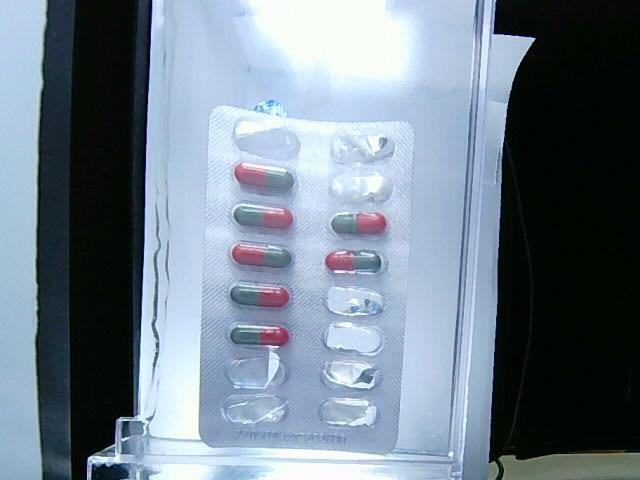Light Front: (200, 101, 413, 452)
No Pill Front: (233, 118, 300, 161), (225, 349, 286, 389), (324, 321, 384, 356), (221, 394, 288, 424), (331, 134, 394, 164), (330, 173, 392, 203), (325, 286, 383, 316), (323, 360, 381, 390), (320, 398, 377, 426)
Pill Front: (234, 163, 294, 189), (230, 243, 292, 268), (233, 204, 294, 229), (325, 250, 385, 273), (230, 284, 290, 307), (230, 324, 290, 346), (330, 211, 387, 234)
